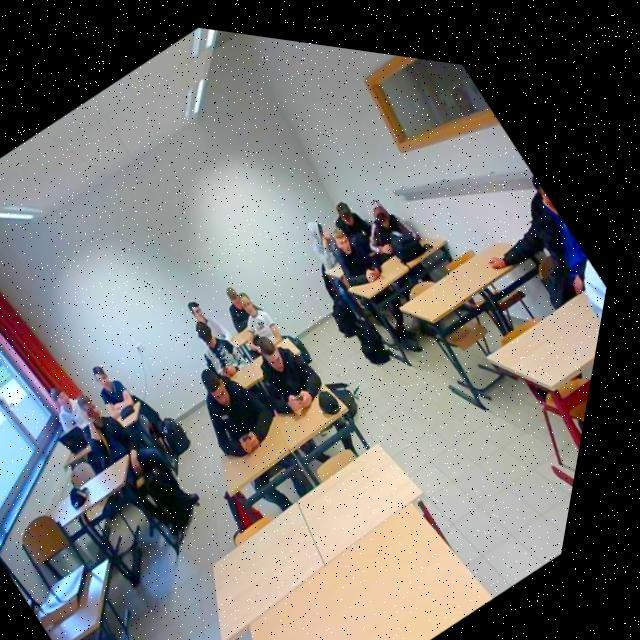phone_use: (200, 368, 271, 454), (187, 300, 258, 376), (253, 334, 319, 412), (256, 336, 319, 411)
